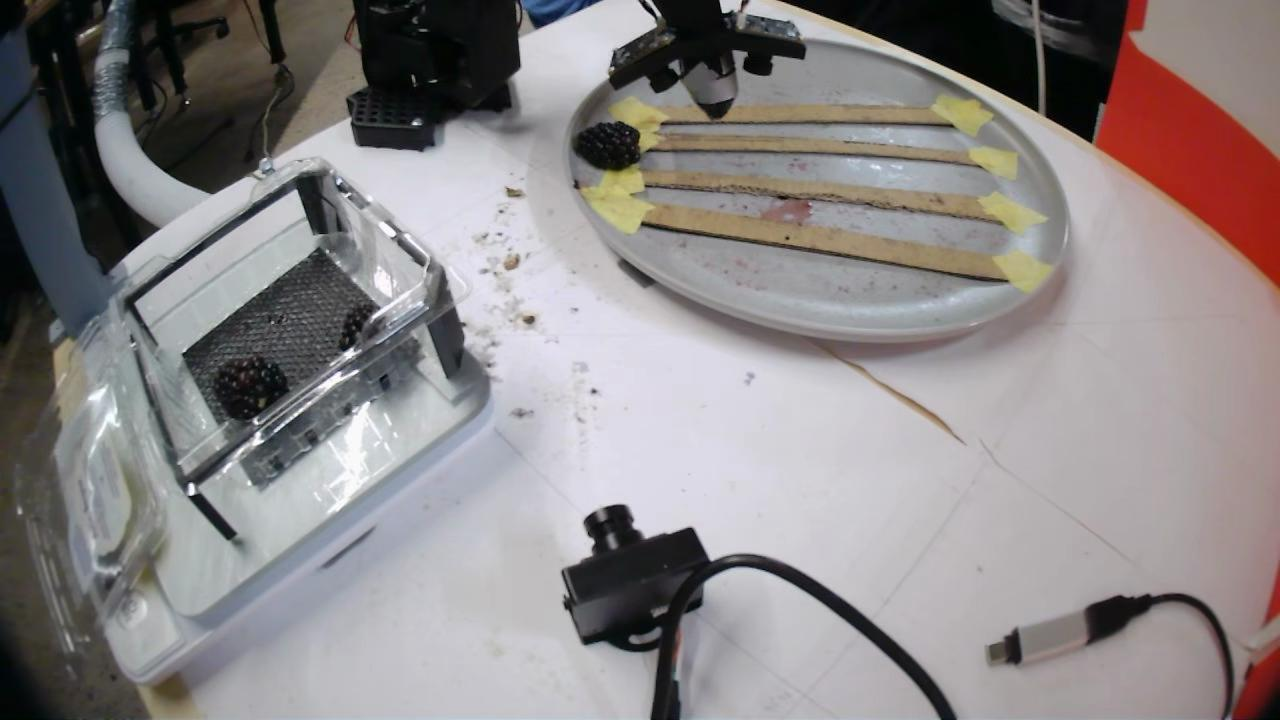berry: (213, 355, 289, 418), (572, 122, 640, 169), (338, 306, 372, 350)
